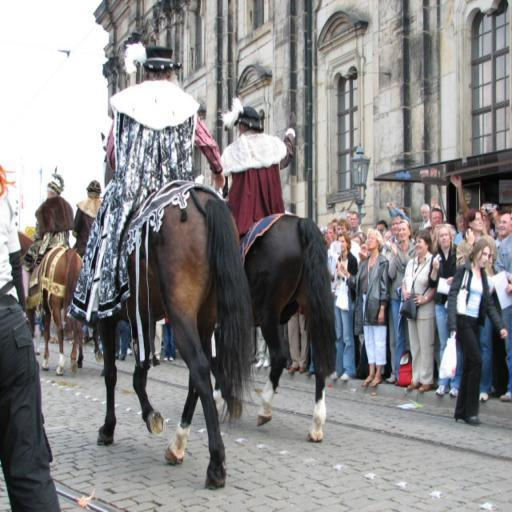horse: (96, 144, 269, 493), (214, 211, 340, 446), (19, 229, 84, 378), (78, 326, 104, 369)
